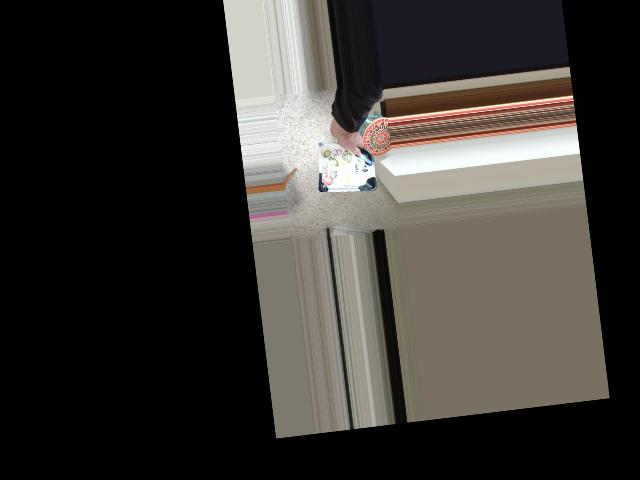cheese: (311, 119, 375, 184)
